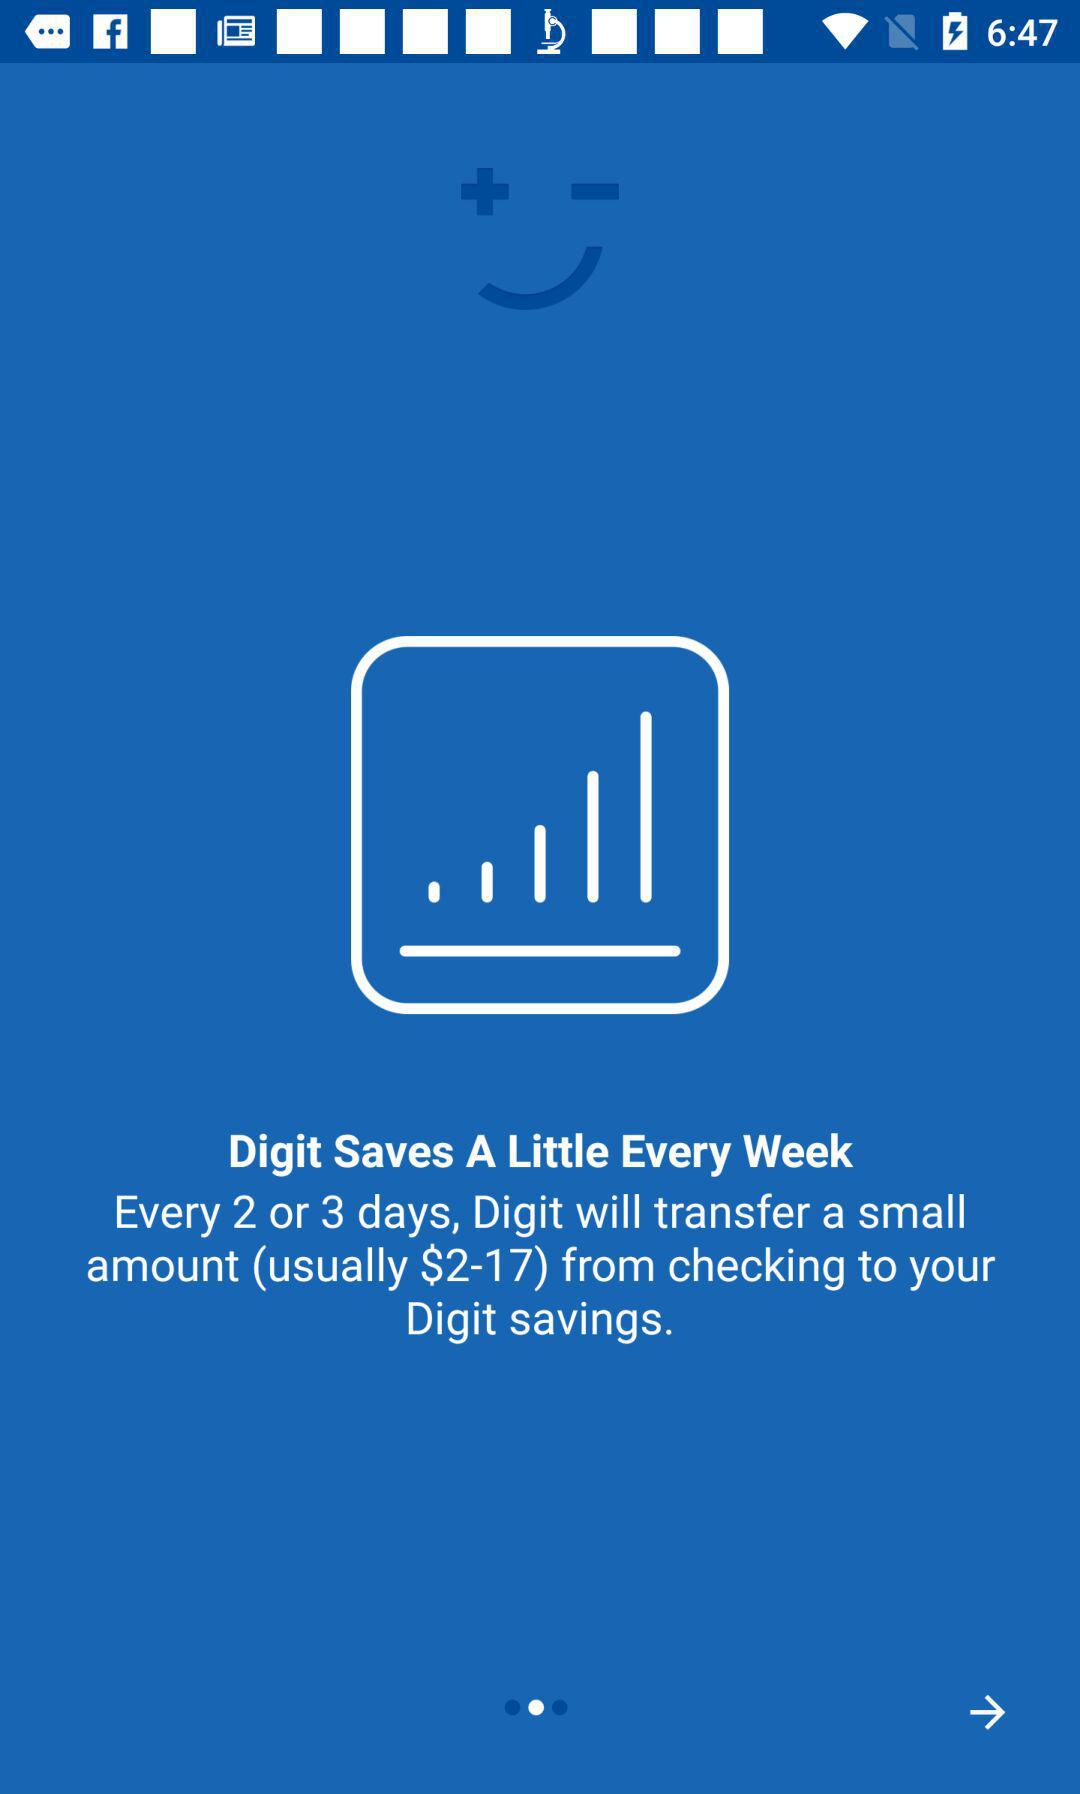Icon: (969, 1694, 1006, 1731)
Image: (348, 633, 732, 1019), (457, 167, 624, 317)
PageIndicator: (503, 1697, 569, 1718)
Text: (85, 1190, 999, 1347), (228, 1132, 855, 1178)
UpperTaskBar: (1, 1, 1080, 64)
